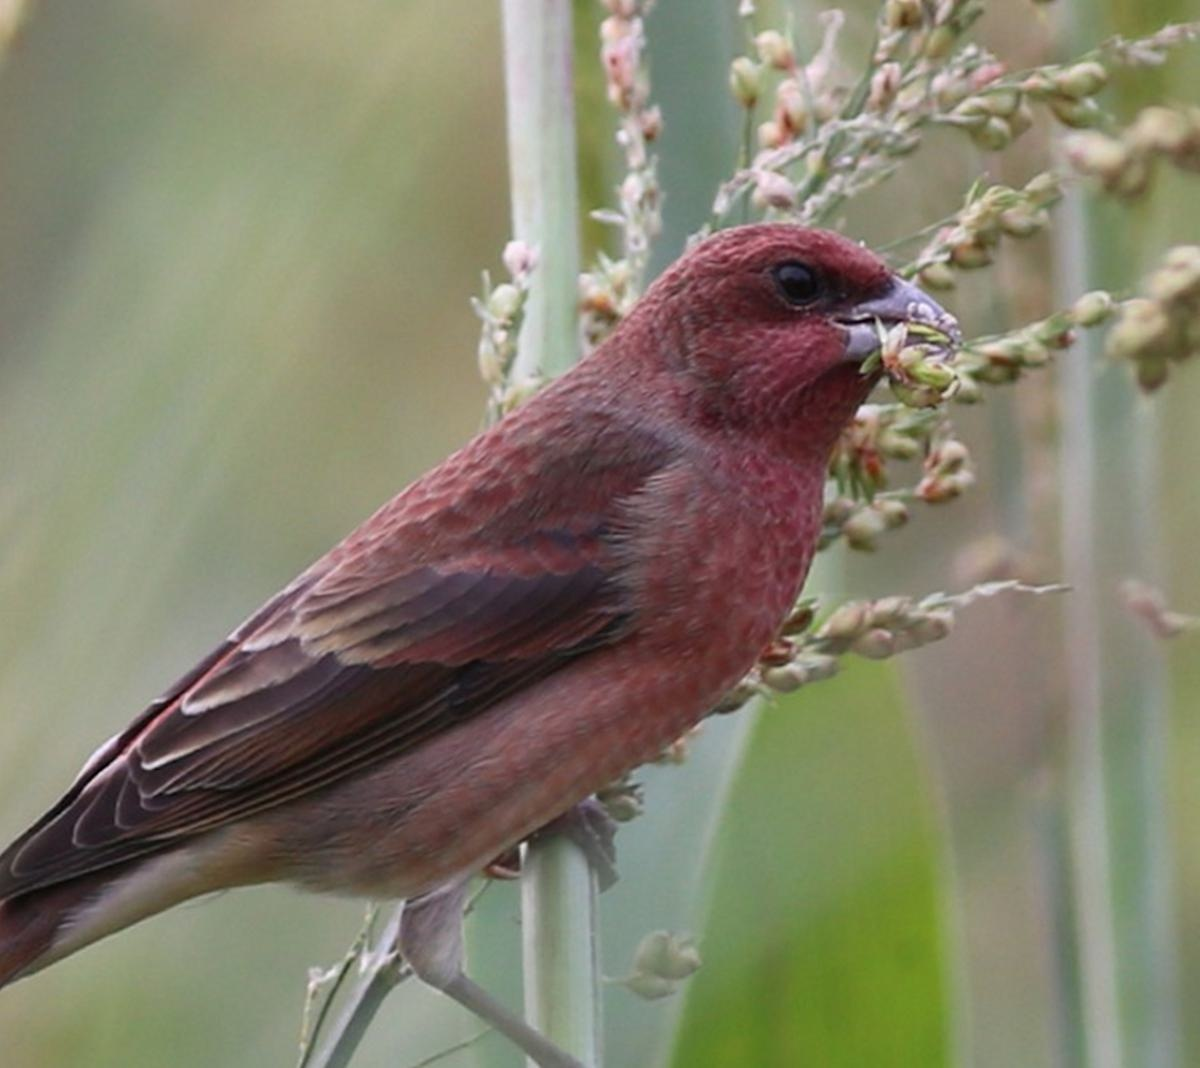rosefinch: (85, 195, 1001, 931)
